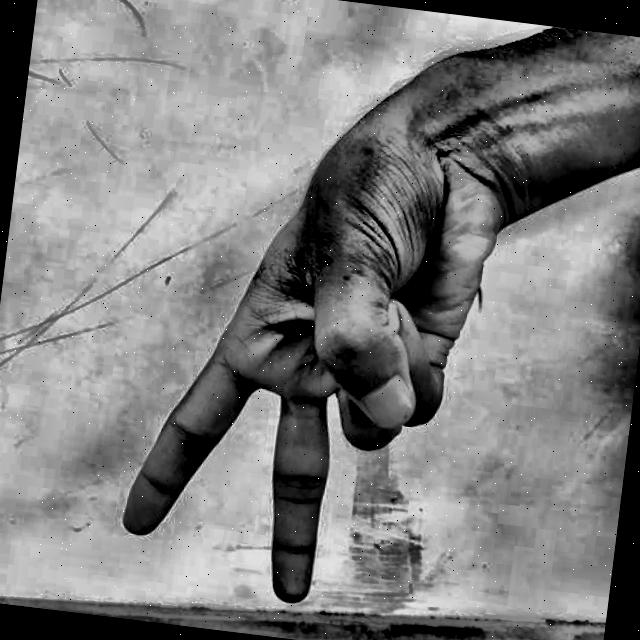Pa: (90, 46, 534, 639)
